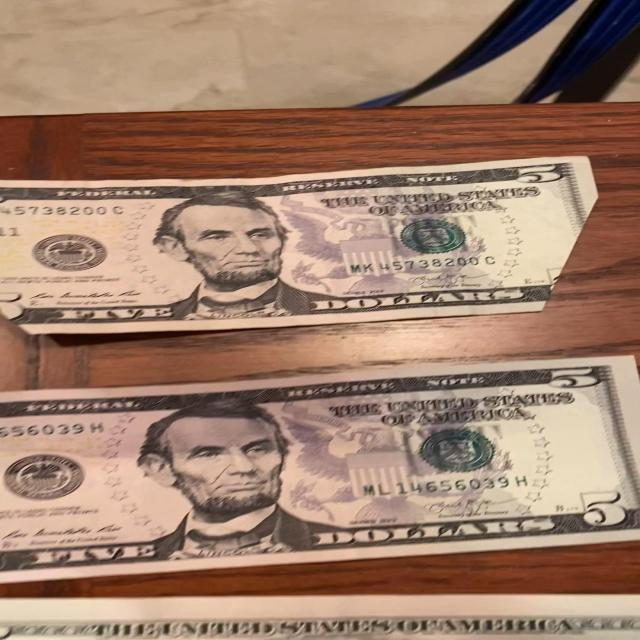5-Front: (0, 348, 640, 587), (0, 158, 598, 342)
